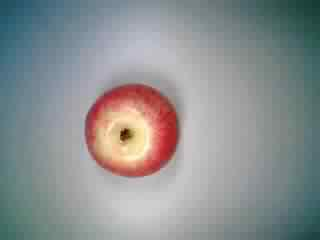apple: (80, 77, 184, 181)
